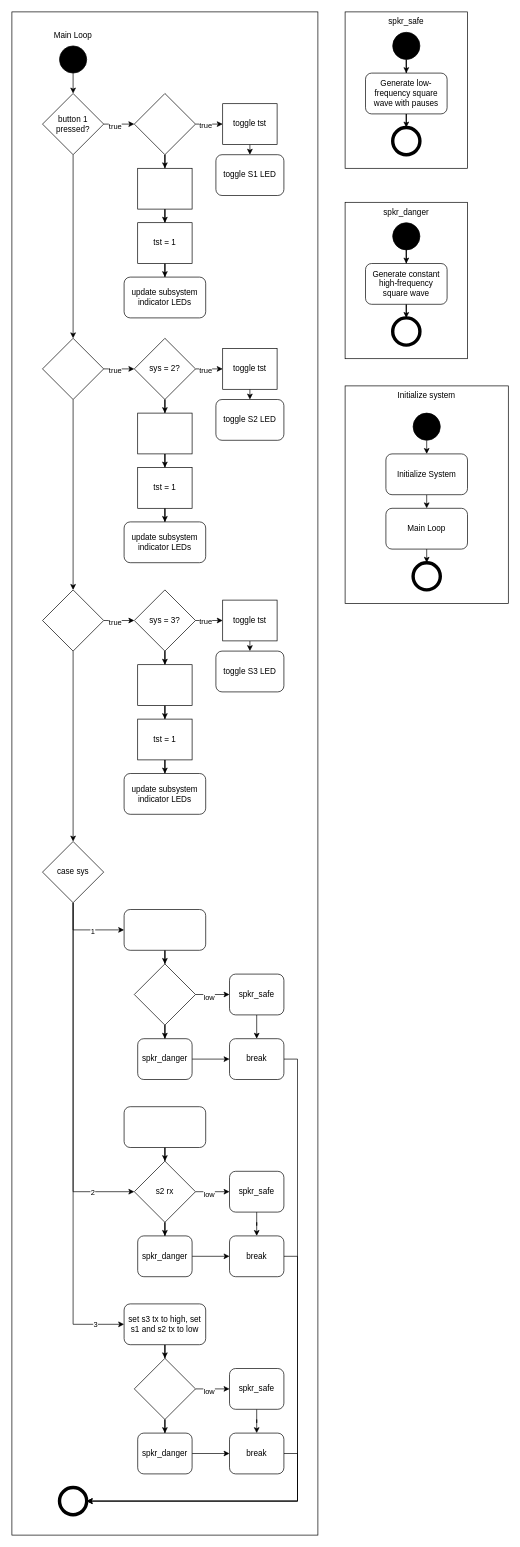
Some shapes in this 520 by 1547 pixel diagram are drawn without their labels. Here are the shapes that lost their labels. From the top down, the centre of each, then its label:
At point 165,124: "sys = 1?".
At point 164,188: "sys = 1".
At point 73,369: "button 2 pressed?".
At point 164,433: "sys = 2".
At point 73,620: "button 3 pressed?".
At point 164,685: "sys = 3".
At point 164,929: "set s1 tx to high, set s2 and s3 tx to low".
At point 165,994: "s1 rx".
At point 164,1127: "set s2 tx to high, set s1 and s3 tx to low".
At point 165,1389: "s3 rx".
